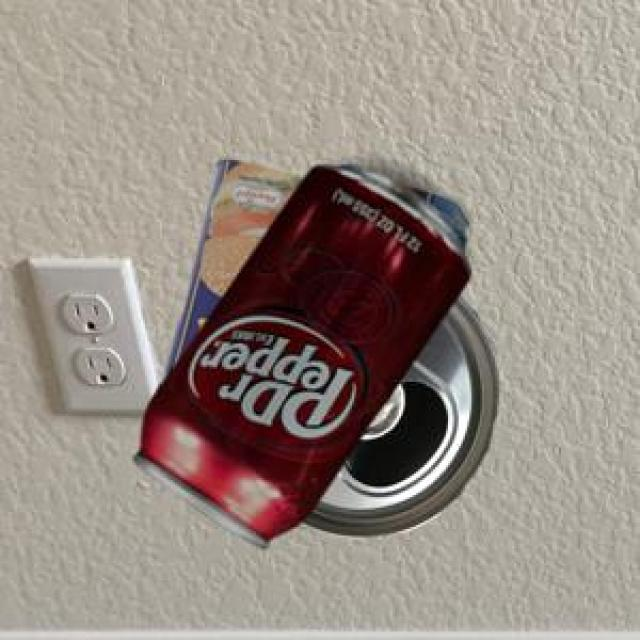logam: (131, 163, 466, 545), (162, 155, 468, 377), (291, 293, 496, 534)
